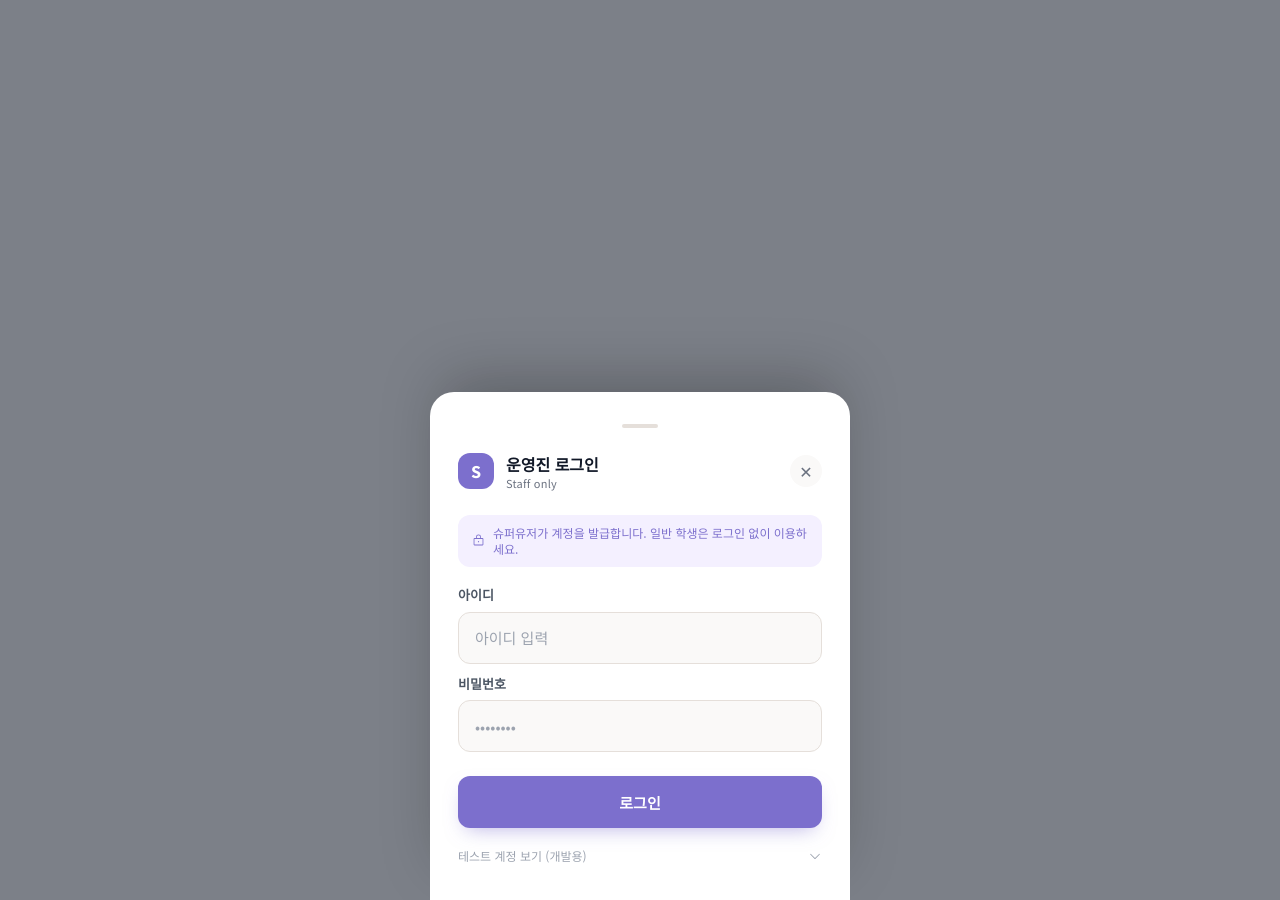
Test: LoginModal — 운영진 로그인 › 로그인 실패 시 오류 메시지를 표시한다
Type "admin" into the field with placeholder "아이디 입력" at [640, 638], box [458,612,822,664]
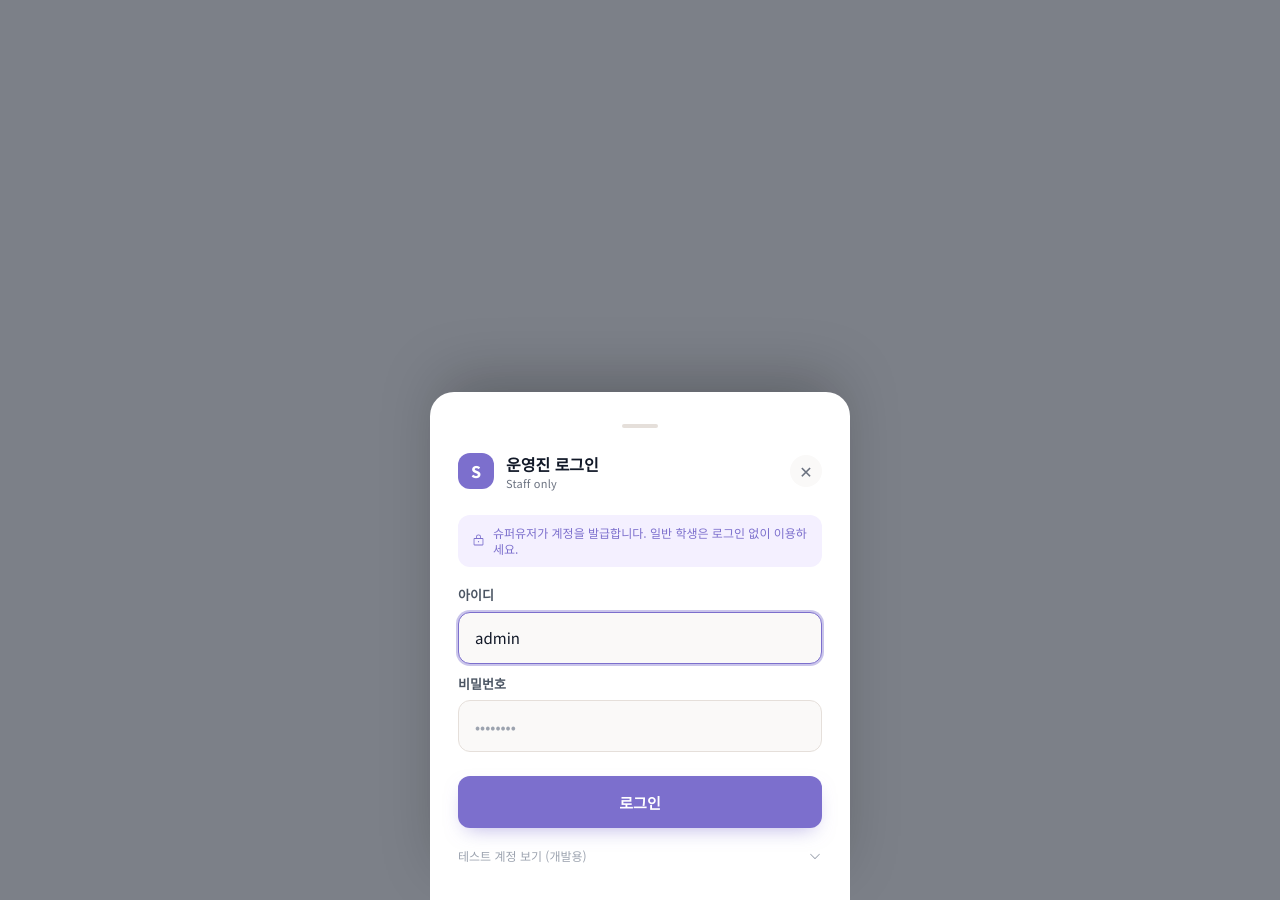
Type "wrong" into the password field with placeholder "••••••••" at [640, 726], box [458,700,822,752]
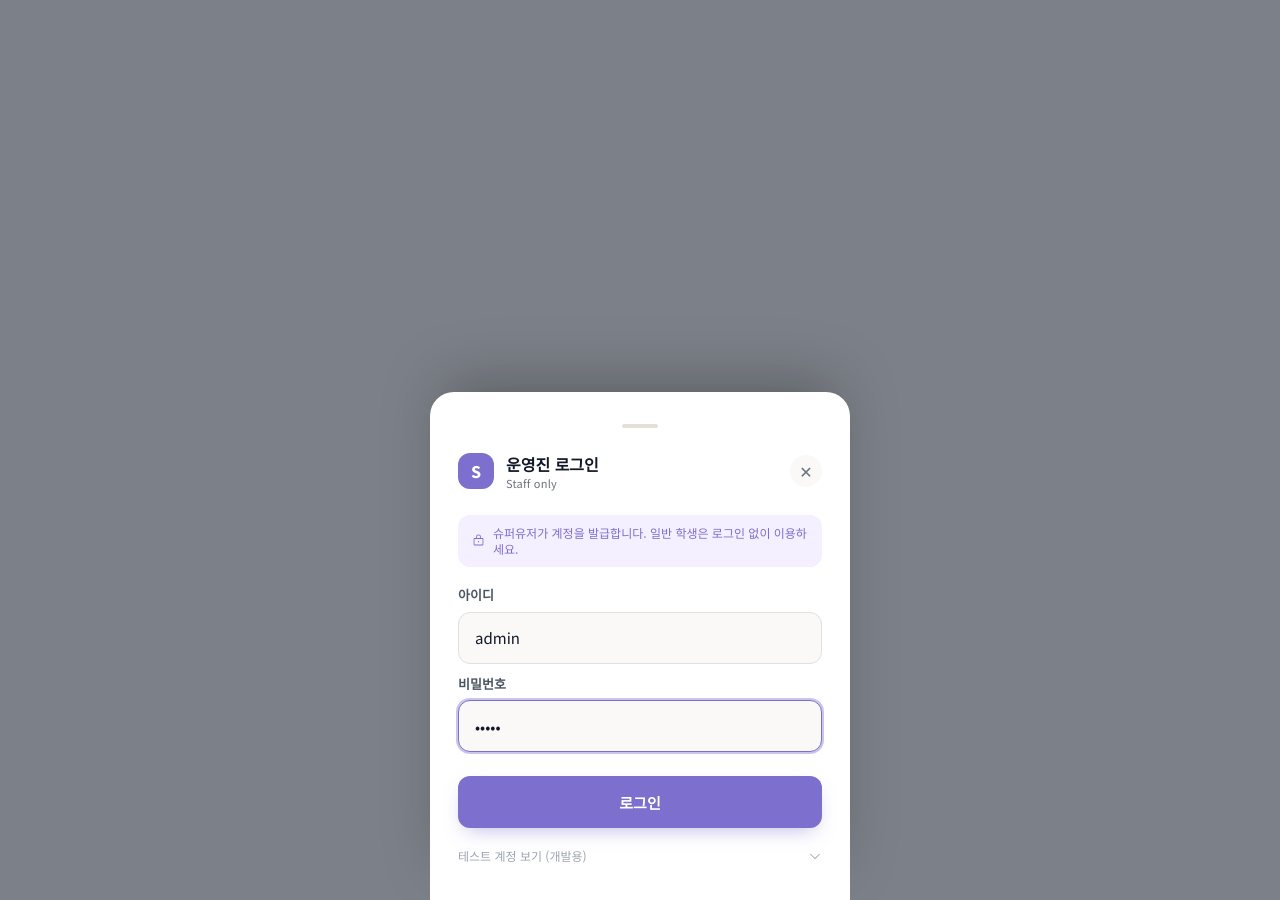
Click the button "로그인" at [640, 802], box [458,776,822,828]
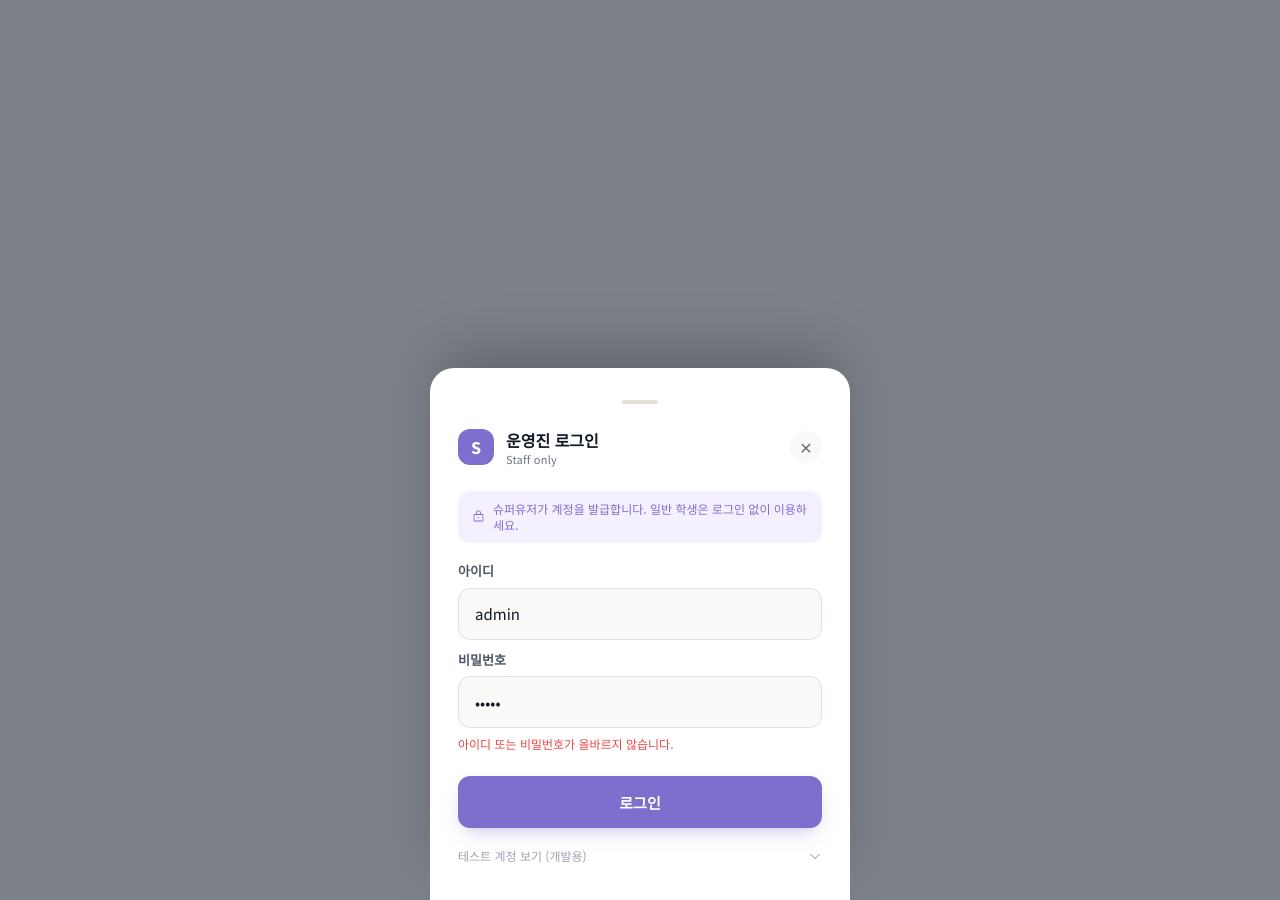
Now the text "아이디 또는 비밀번호가 올바르지 않습니다." is shown, box [458,735,674,752]
